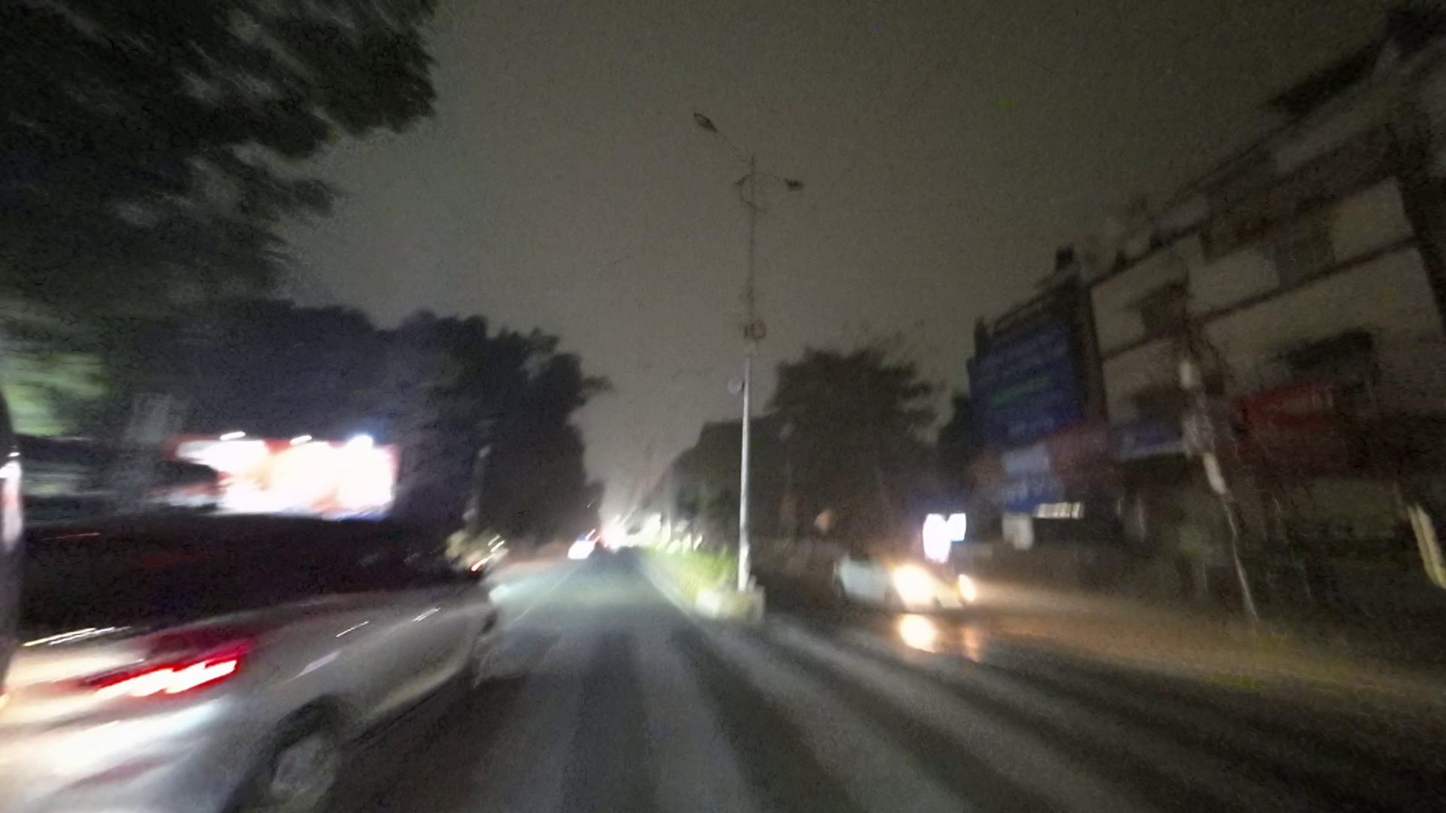streetlight: (691, 103, 748, 162), (763, 161, 808, 201)
